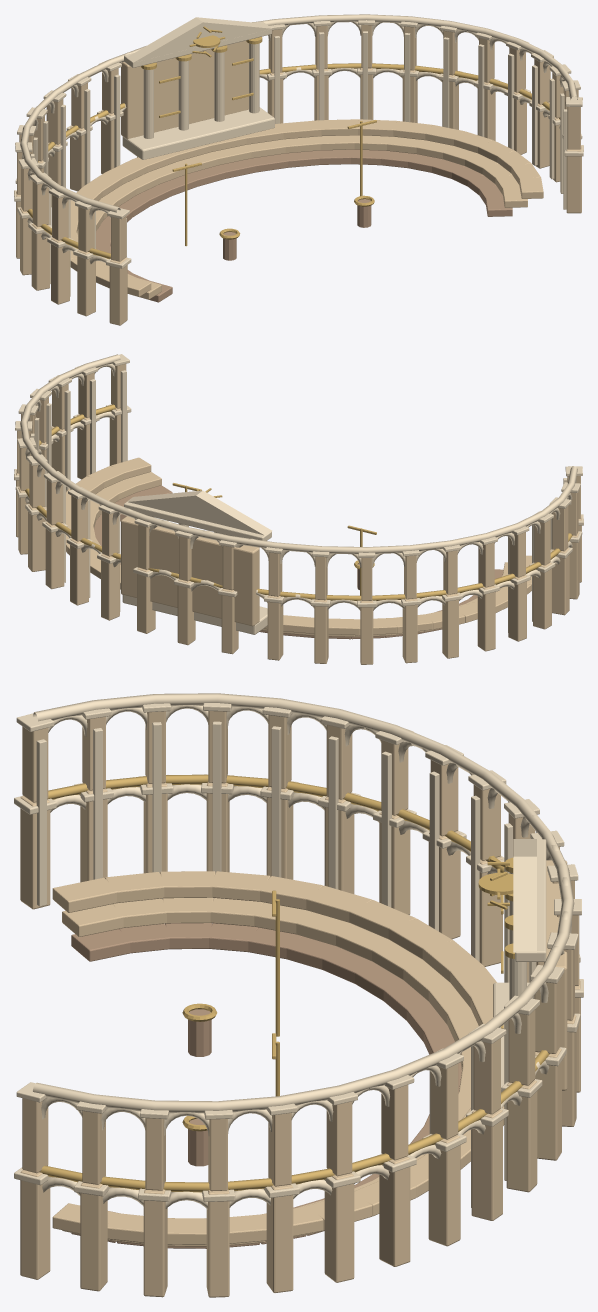
Rendered from roman_arena_core.glb.
The picture shows the model from 3 angles, top to bottom: view 1: azimuth 30°, elevation 25°; view 2: azimuth 150°, elevation 25°; view 3: azimuth 270°, elevation 25°; orthographic projection. The views are drawn at different scales.
Visible parts, largest first — view 1: core-Sunlit Travertine, core-Fresh Cut Stone, core-Weathered Stone, core-Imperial Bronze; view 2: core-Sunlit Travertine, core-Fresh Cut Stone, core-Imperial Bronze, core-Weathered Stone; view 3: core-Sunlit Travertine, core-Fresh Cut Stone, core-Weathered Stone, core-Imperial Bronze.
Part boxes in pixels (x1,y1,x2,y2): core-Sunlit Travertine: (16,25,581,325); core-Fresh Cut Stone: (14,14,583,296); core-Weathered Stone: (96,149,512,302); core-Imperial Bronze: (27,26,560,258); core-Sunlit Travertine: (16,364,581,664); core-Fresh Cut Stone: (14,354,583,634); core-Imperial Bronze: (25,404,572,600); core-Weathered Stone: (94,485,503,639); core-Sunlit Travertine: (20,711,580,1297); core-Fresh Cut Stone: (14,693,583,1209); core-Weathered Stone: (71,923,461,1248); core-Imperial Bronze: (39,774,549,1192).
Size of the model in its own units: 32.03 by 8.85 by 18.27.
